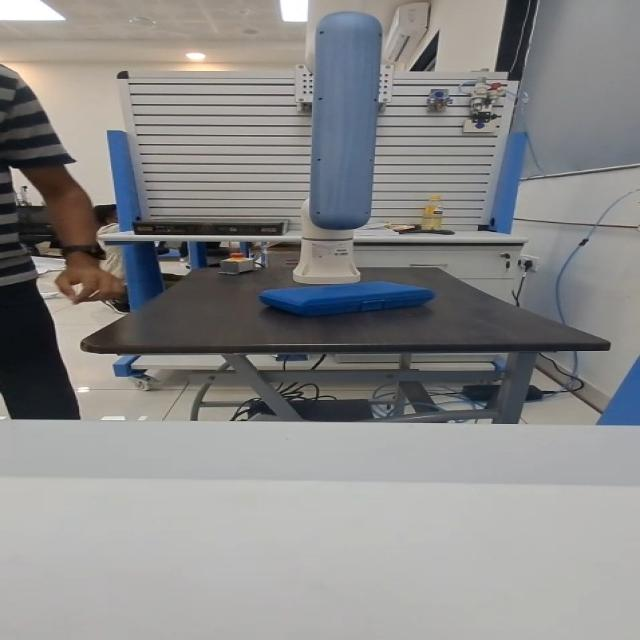top-surface: (286, 283, 406, 298)
